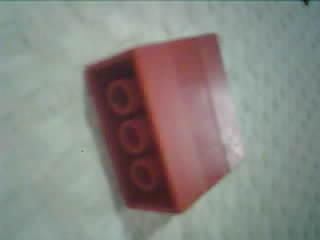lego: (81, 31, 255, 215)
